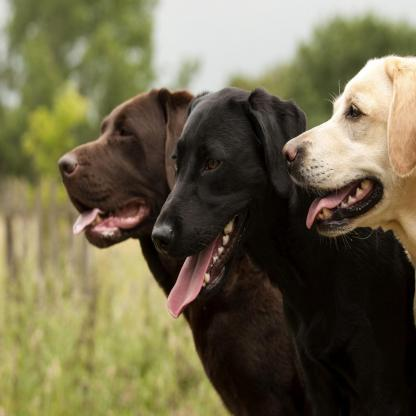Labarador Retriever: (152, 91, 416, 414), (54, 89, 309, 412), (284, 54, 416, 320)
